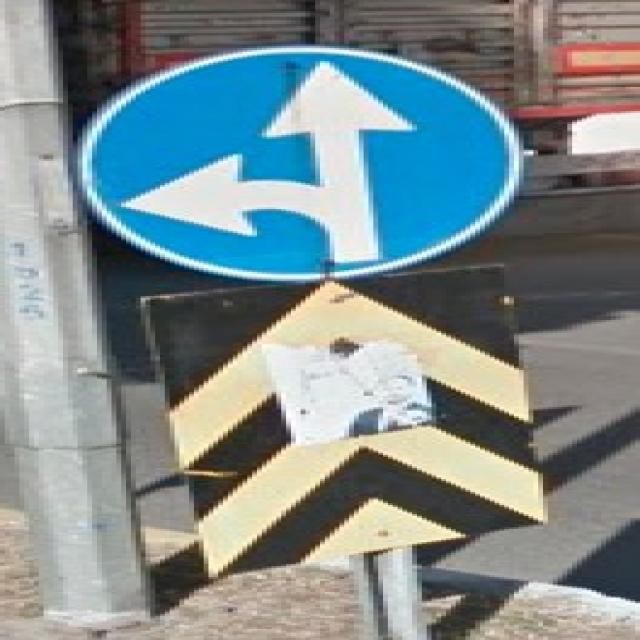Straight or Left: (72, 48, 523, 276)
